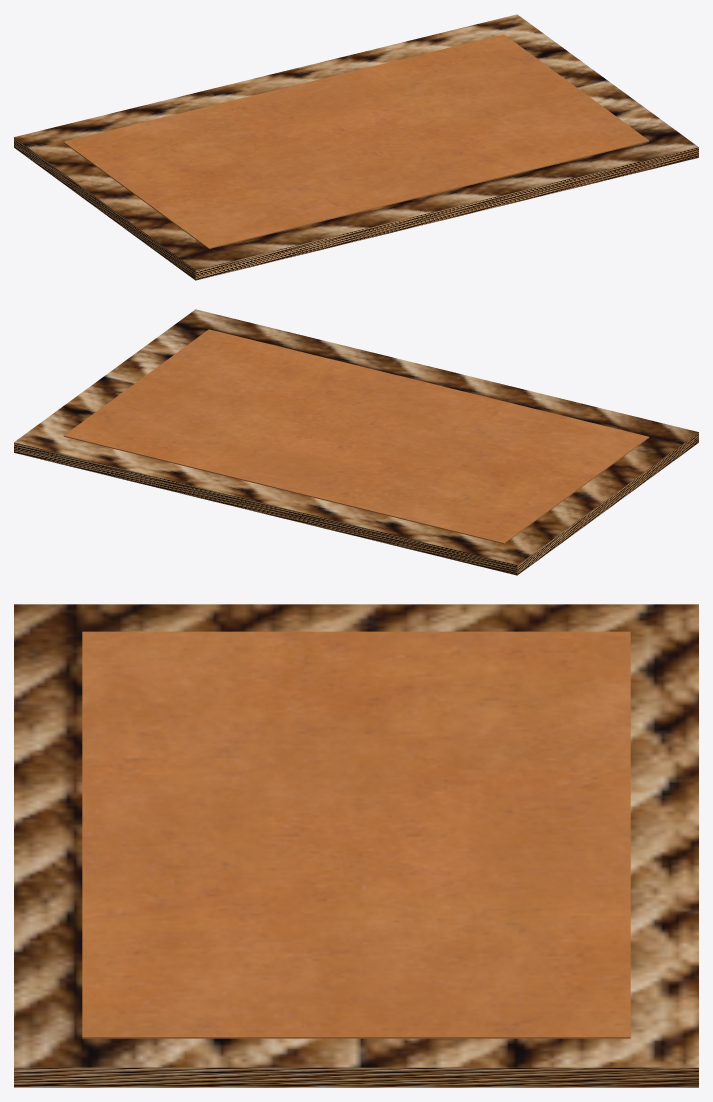
Rendered from Doormat.fbx.
3 views of the same model, one above another, from view 1: azimuth 30°, elevation 25°; view 2: azimuth 150°, elevation 25°; view 3: azimuth 270°, elevation 25° (orthographic). The views are drawn at different scales.
Visible parts, largest first — view 1: Doormat; view 2: Doormat; view 3: Doormat.
Boxes of the visible parts, left/top/right/bottom form: Doormat: left=14, top=14, right=698, bottom=280; Doormat: left=14, top=309, right=698, bottom=575; Doormat: left=14, top=604, right=698, bottom=1087.
Bounding box in the file's own units: 0.8 × 0.0175 × 0.5.
